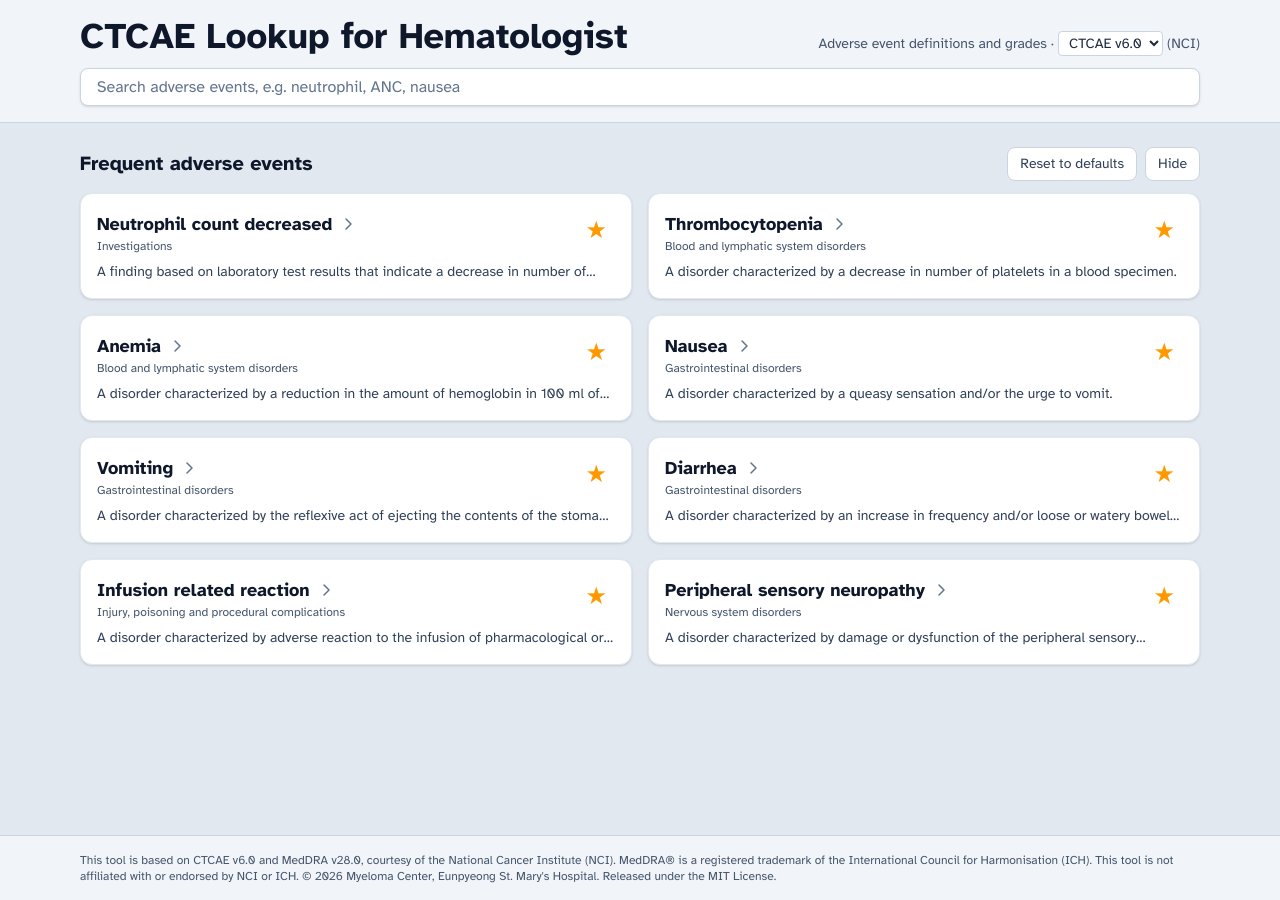
Test: Reset to defaults restores the 8 default terms
Click the button named "Remove from favorites": click(596, 352) [578, 332, 615, 372]
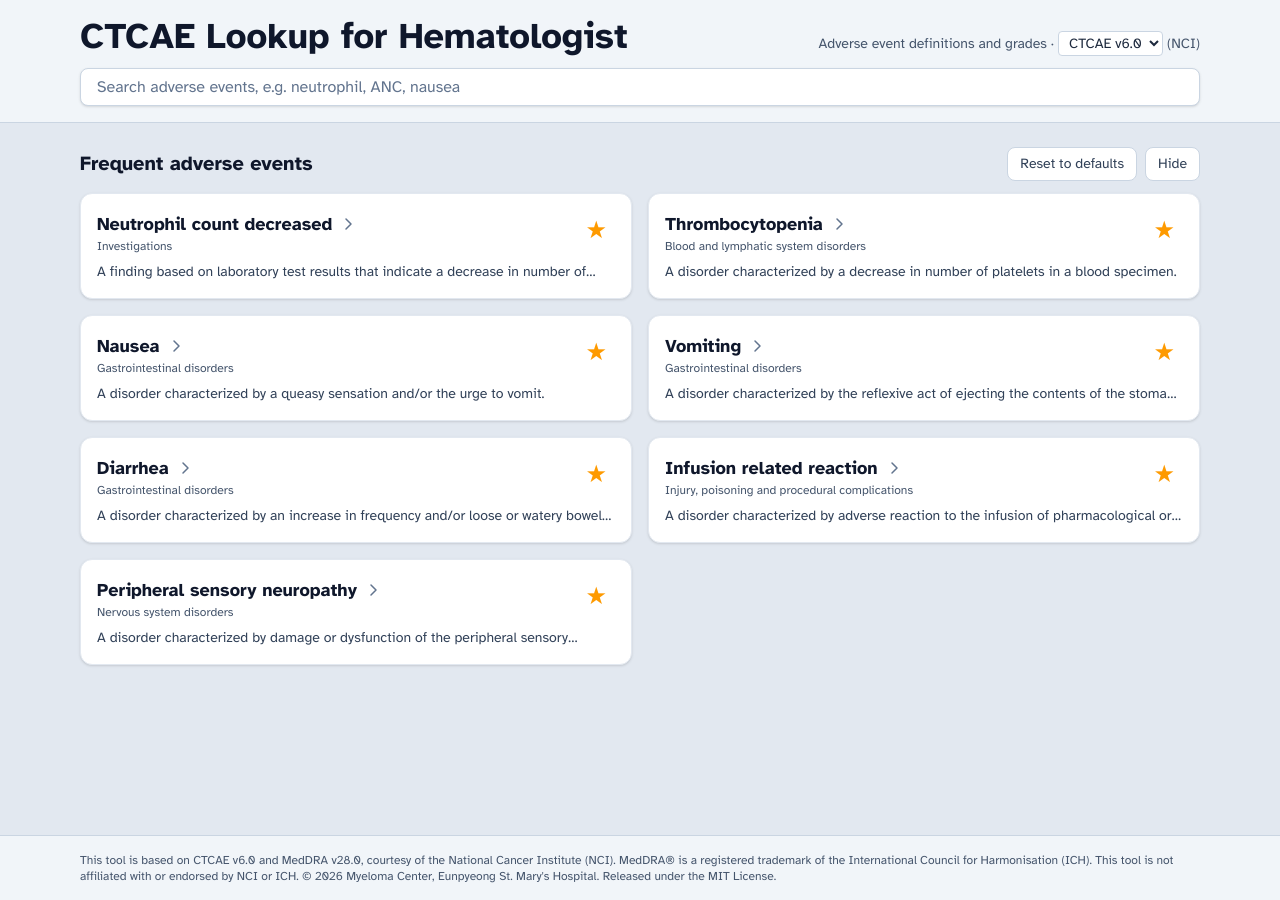
Click the button named "Remove from favorites": click(596, 352) [578, 332, 615, 372]
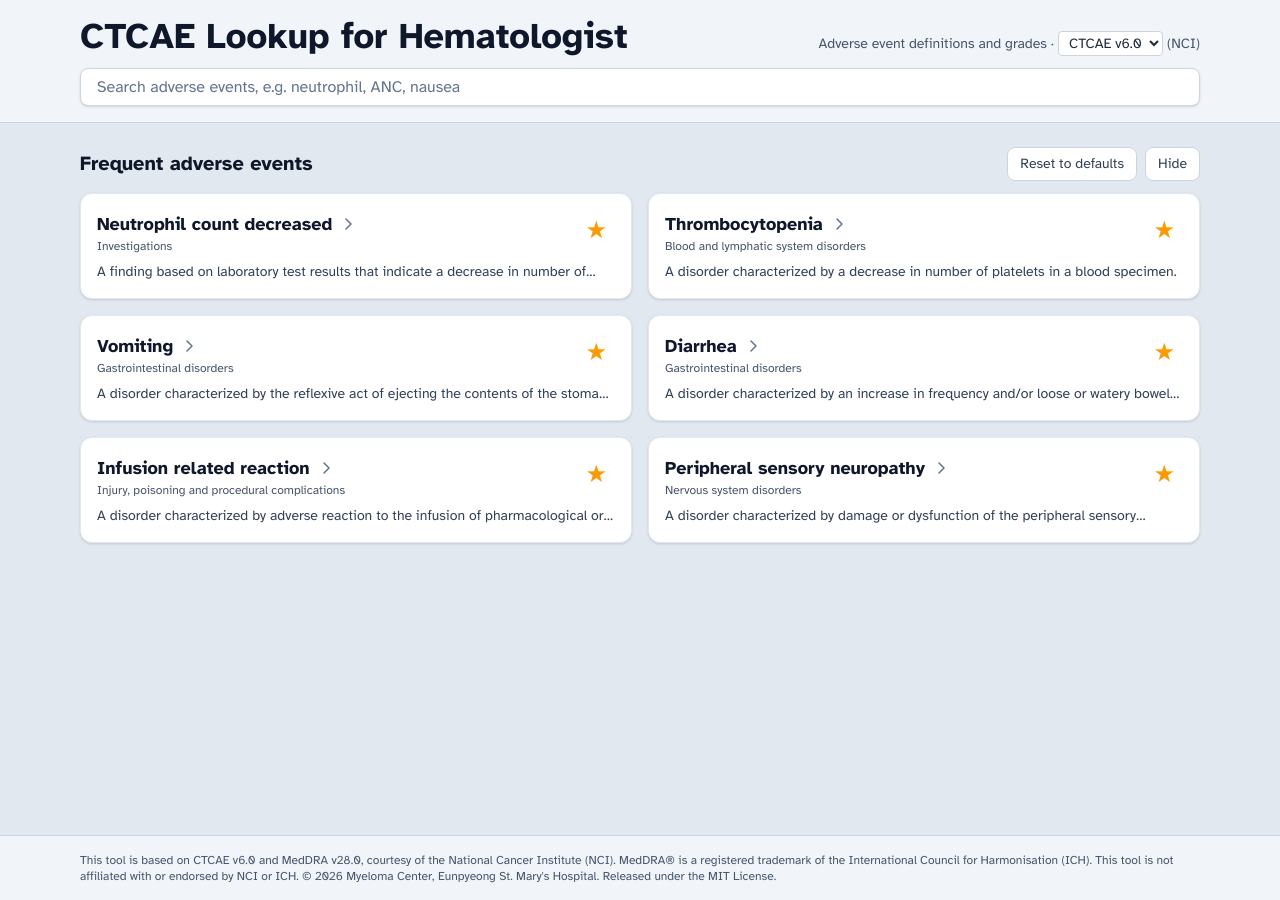
Click the button named "Remove from favorites": click(1164, 352) [1146, 332, 1183, 372]
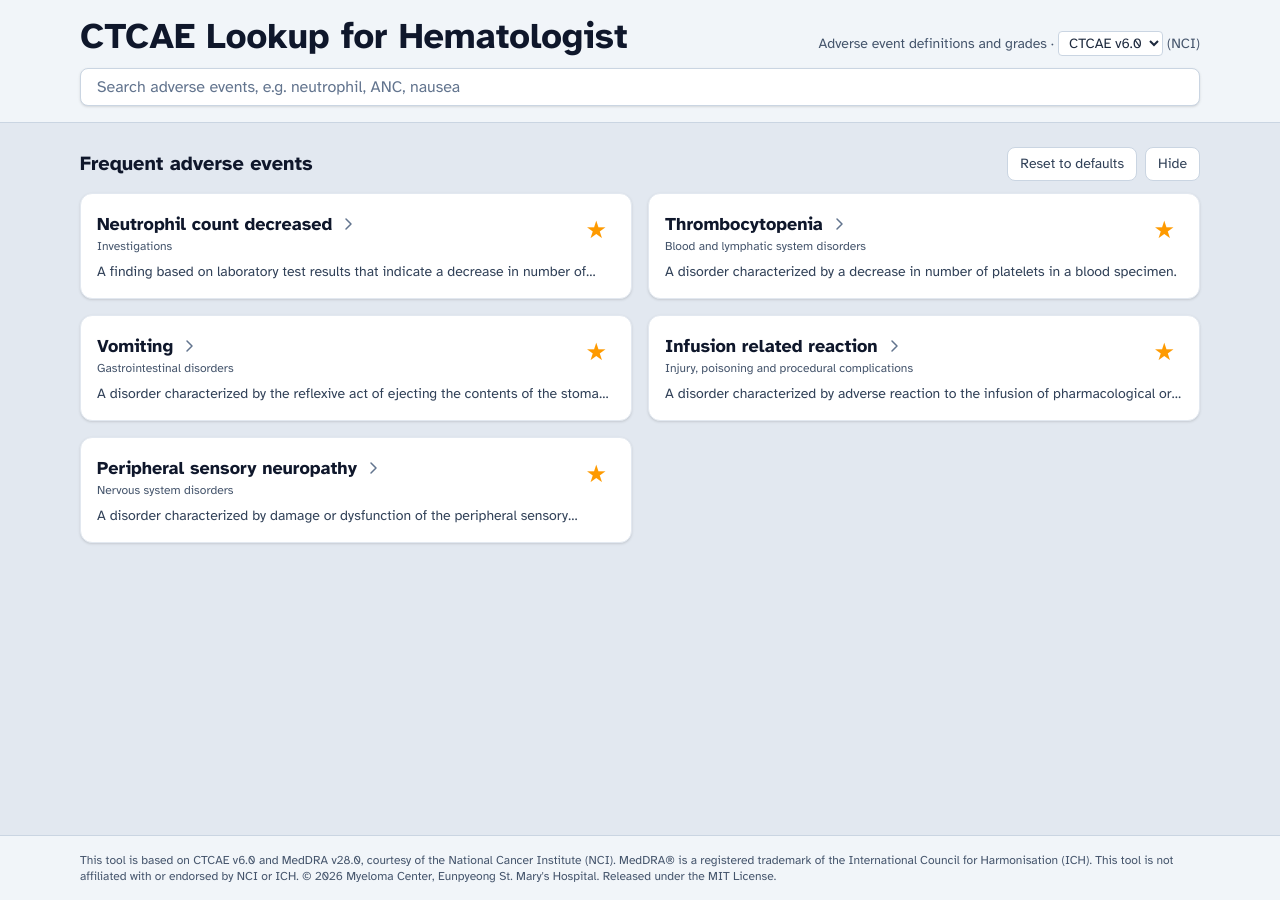
Click the button "Reset to defaults": click(1072, 164) [1007, 147, 1137, 181]
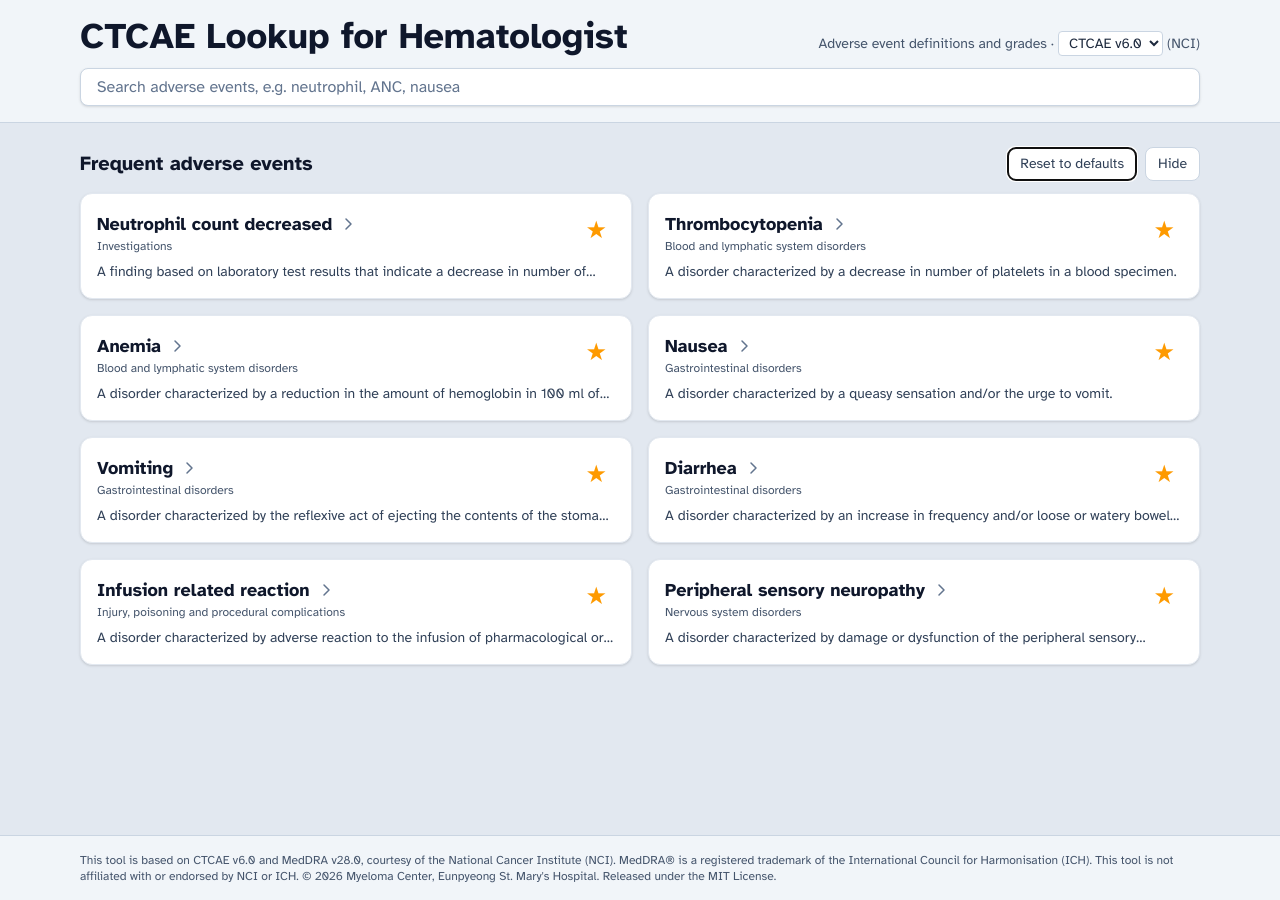
Expected: the element "Anemia" is shown, [80, 315, 632, 421]
